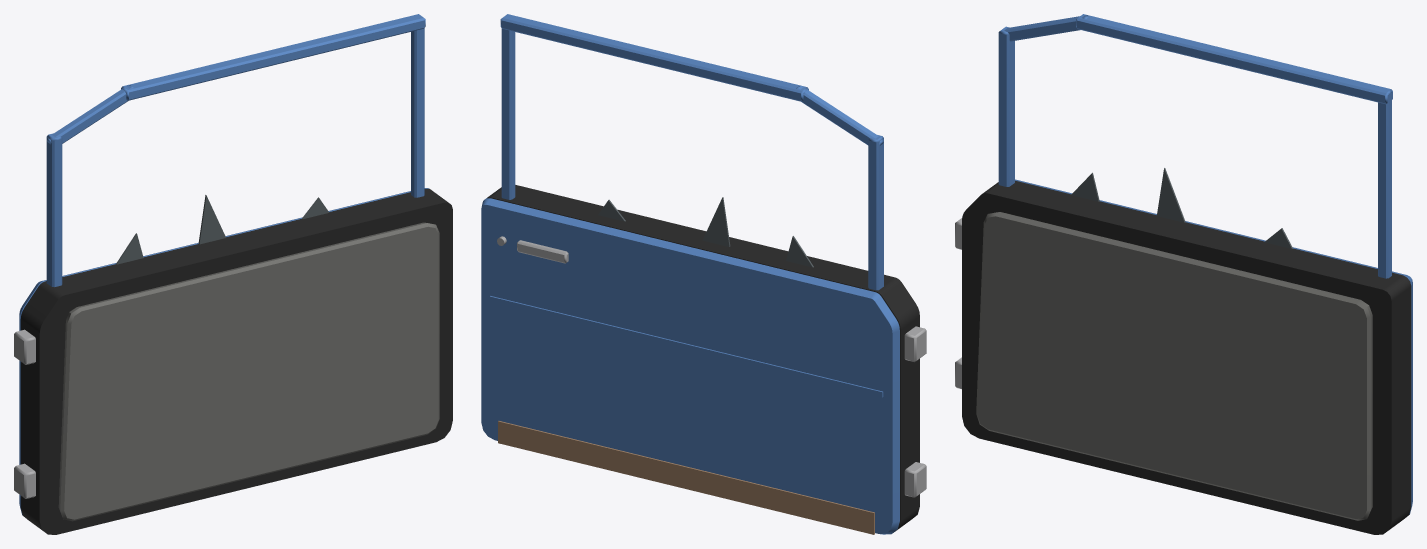
The model's file is car_door.glb.
3 renders of one model, left to right at view 1: azimuth 30°, elevation 25°; view 2: azimuth 150°, elevation 25°; view 3: azimuth 330°, elevation 25°, orthographic. The views are drawn at different scales.
Visible parts, largest first — view 1: body; view 2: body; view 3: body.
Boxes of the visible parts, x1,y1,x2,y2 form: body: [14, 14, 452, 534]; body: [481, 14, 926, 534]; body: [955, 14, 1412, 534].
Size of the model in its own units: 1.03 by 0.9647 by 0.1355.
